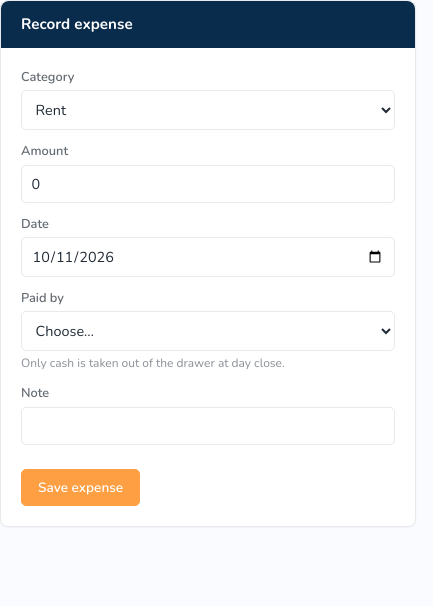
ExpenseForm › rejects a negative amount
Replace the text in the number field labelled "Amount" with "-500" at (208, 184), box 21,164 -> 395,202
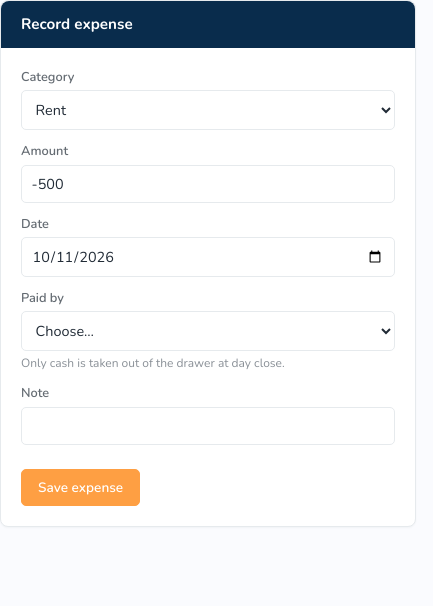
Click the button "Save expense" at (81, 487), box 21,469 -> 140,506
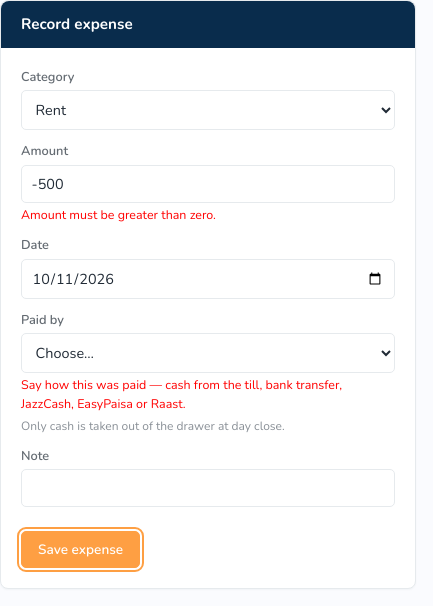
Check: the text "Amount must be greater than zero." is shown, box 21,206 -> 216,223
